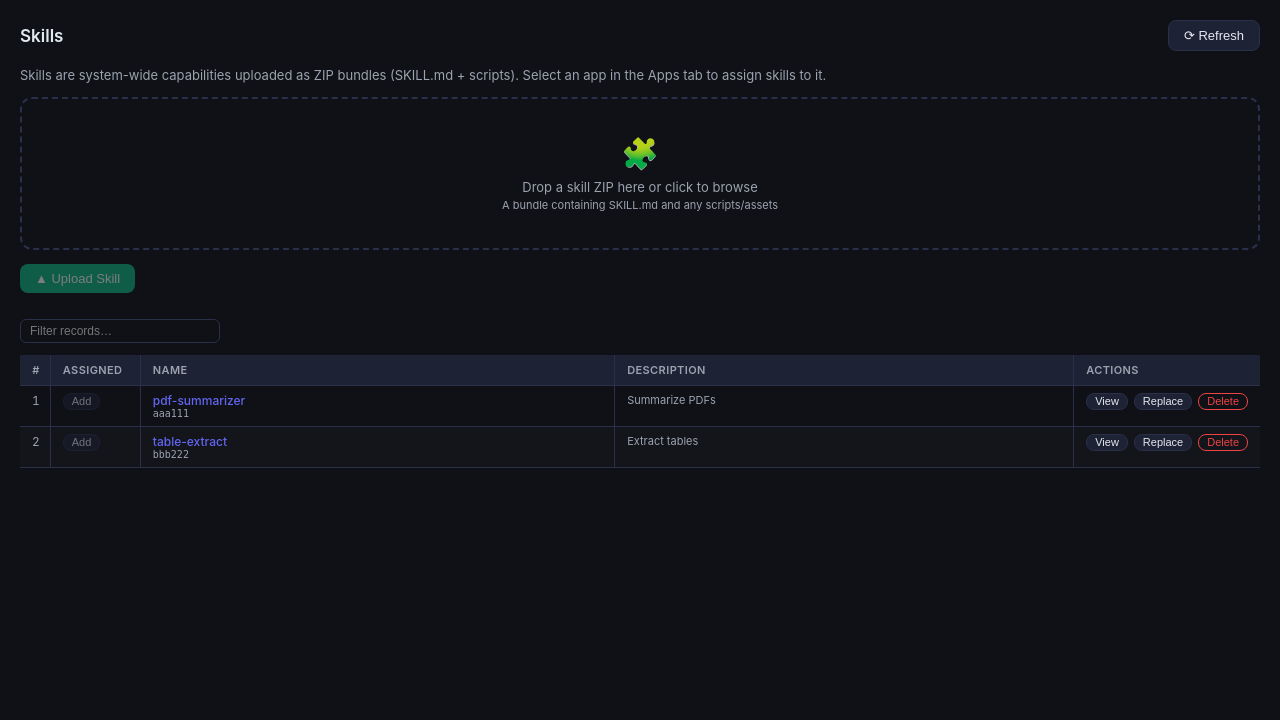
Test: detail modal › opens the modal and renders SKILL.md and the file list
Click the button "pdf-summarizer": [199, 400] box [153, 393, 245, 408]
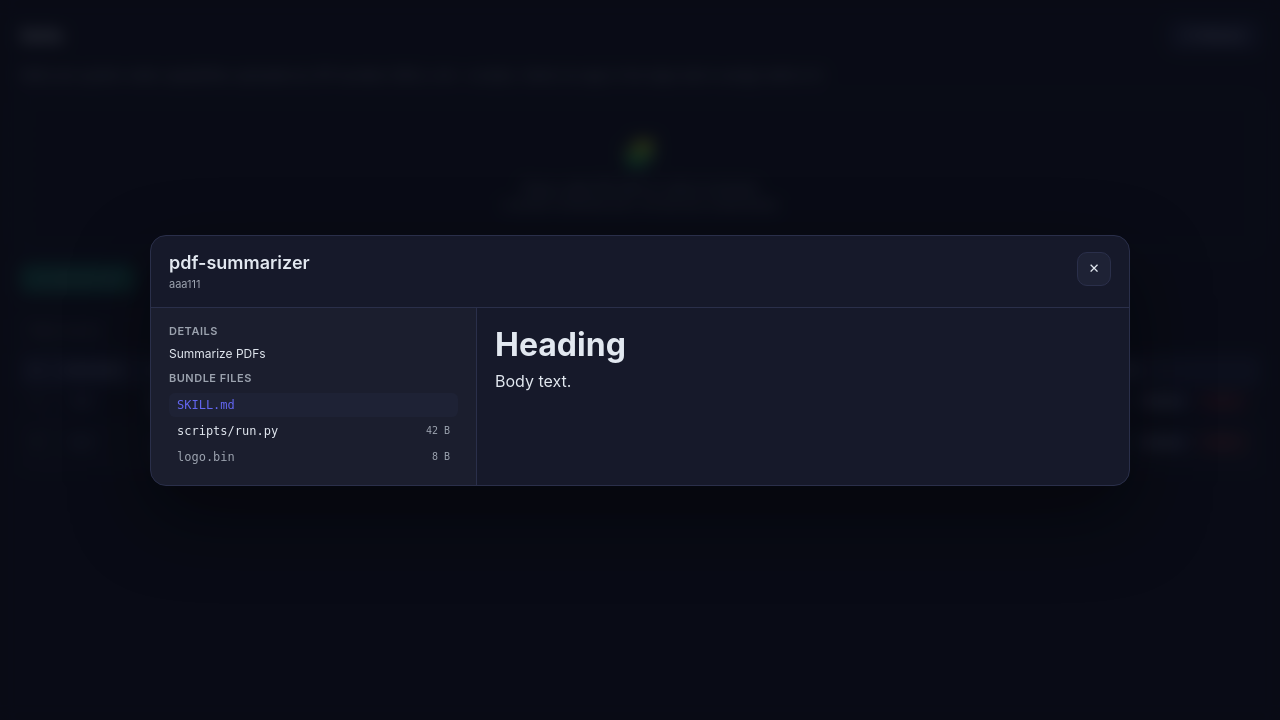
Expected: the heading "Heading" is shown, [495, 324, 626, 364]
Expected: the text "scripts/run.py" is shown, [177, 424, 278, 438]
